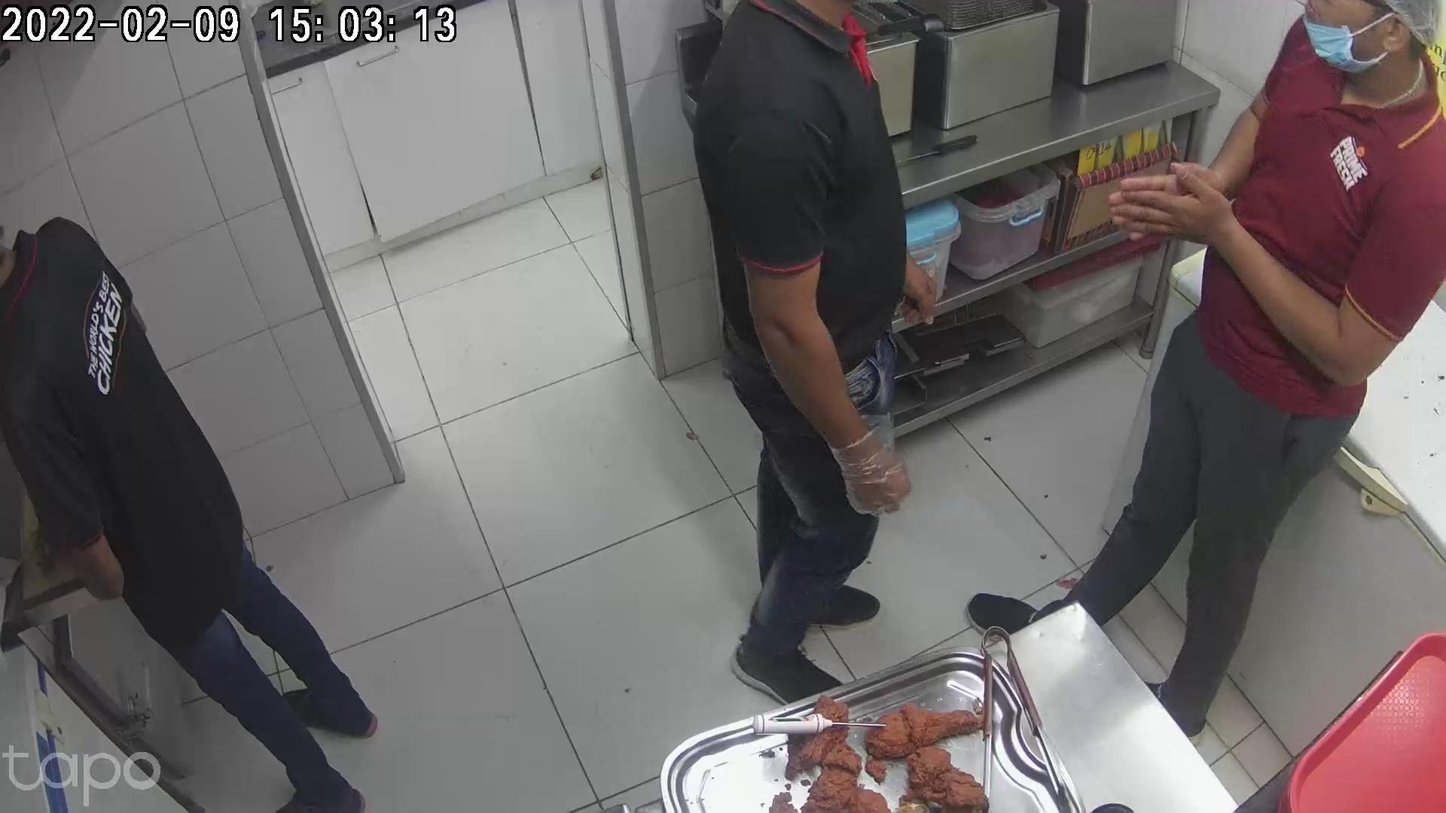gloves: (829, 415, 898, 517)
